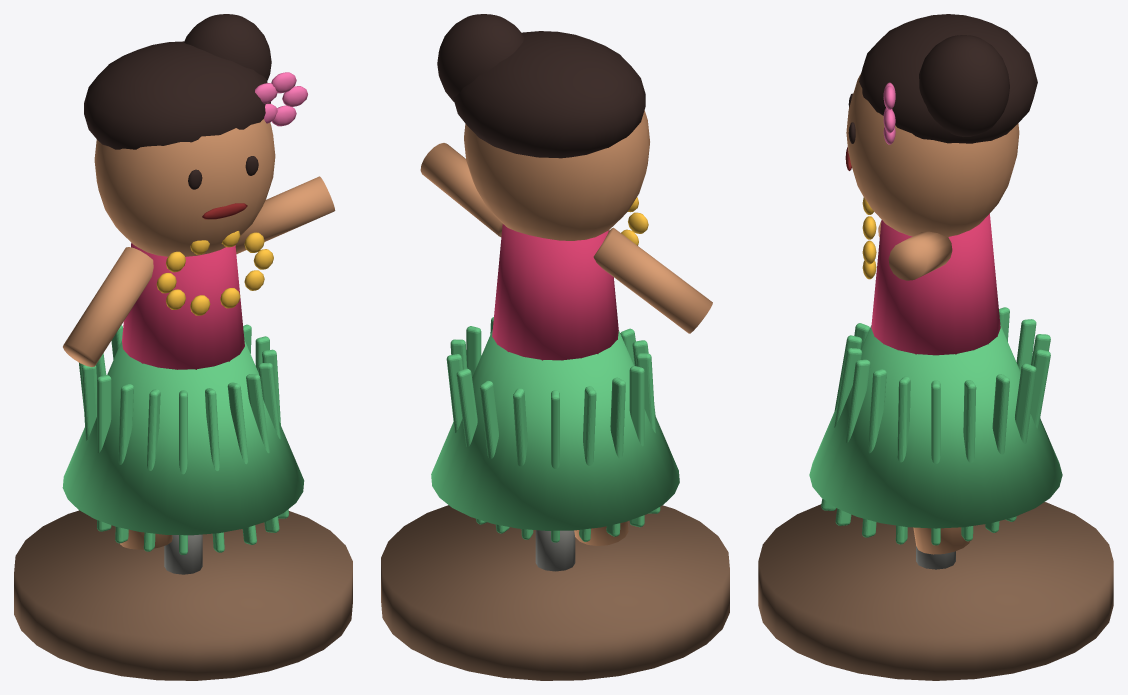
The model's file is orn_cowboy.glb.
The picture shows the model from 3 angles, left to right: view 1: azimuth 30°, elevation 25°; view 2: azimuth 150°, elevation 25°; view 3: azimuth 270°, elevation 25°; orthographic projection. The views are drawn at different scales.
Parts seen in each view (by area): view 1: Dashboard Base, Skirt Core, Head, Hair Cap, Torso, Left Arm, Hair Bun, Right Arm, Spring Neck, Grass Strand 10, Grass Strand 14, Grass Strand 15 (+7 smaller); view 2: Dashboard Base, Skirt Core, Hair Cap, Head, Torso, Left Arm, Hair Bun, Right Arm, Spring Neck, Grass Strand 9, Grass Strand 8, Grass Strand 3 (+8 smaller); view 3: Dashboard Base, Skirt Core, Head, Torso, Hair Cap, Hair Bun, Right Arm, Grass Strand 16, Grass Strand 15, Grass Strand 2, Grass Strand 17, Grass Strand 3 (+7 smaller).
Boxes of the visible parts, x1=… form: Dashboard Base: x1=14, y1=510, x2=352, y2=680; Skirt Core: x1=62, y1=340, x2=304, y2=535; Head: x1=94, y1=119, x2=275, y2=256; Hair Cap: x1=84, y1=41, x2=270, y2=149; Torso: x1=122, y1=243, x2=244, y2=369; Left Arm: x1=63, y1=247, x2=153, y2=367; Hair Bun: x1=184, y1=14, x2=271, y2=80; Right Arm: x1=235, y1=176, x2=335, y2=254; Spring Neck: x1=164, y1=534, x2=202, y2=574; Grass Strand 10: x1=115, y1=384, x2=133, y2=543; Grass Strand 14: x1=227, y1=382, x2=256, y2=544; Grass Strand 15: x1=246, y1=374, x2=279, y2=532; Dashboard Base: x1=381, y1=505, x2=729, y2=680; Skirt Core: x1=431, y1=330, x2=679, y2=530; Hair Cap: x1=453, y1=31, x2=645, y2=158; Head: x1=464, y1=110, x2=649, y2=240; Torso: x1=492, y1=224, x2=618, y2=360; Left Arm: x1=593, y1=227, x2=712, y2=333; Hair Bun: x1=437, y1=14, x2=524, y2=101; Right Arm: x1=420, y1=143, x2=502, y2=236; Spring Neck: x1=535, y1=530, x2=575, y2=571; Grass Strand 9: x1=629, y1=366, x2=644, y2=527; Grass Strand 8: x1=606, y1=377, x2=625, y2=536; Grass Strand 3: x1=456, y1=368, x2=486, y2=524; Dashboard Base: x1=758, y1=502, x2=1113, y2=680; Skirt Core: x1=809, y1=325, x2=1062, y2=528; Head: x1=846, y1=74, x2=1019, y2=236; Torso: x1=871, y1=213, x2=1000, y2=355; Hair Cap: x1=859, y1=14, x2=1037, y2=143; Hair Bun: x1=919, y1=35, x2=1009, y2=136; Right Arm: x1=888, y1=231, x2=952, y2=280; Grass Strand 16: x1=862, y1=369, x2=886, y2=537; Grass Strand 15: x1=835, y1=359, x2=870, y2=525; Grass Strand 2: x1=985, y1=374, x2=1009, y2=532; Grass Strand 17: x1=895, y1=376, x2=910, y2=544; Grass Strand 3: x1=1005, y1=363, x2=1036, y2=521.
Bounding box in the file's own units: 2.3 × 4.25 × 2.3.
